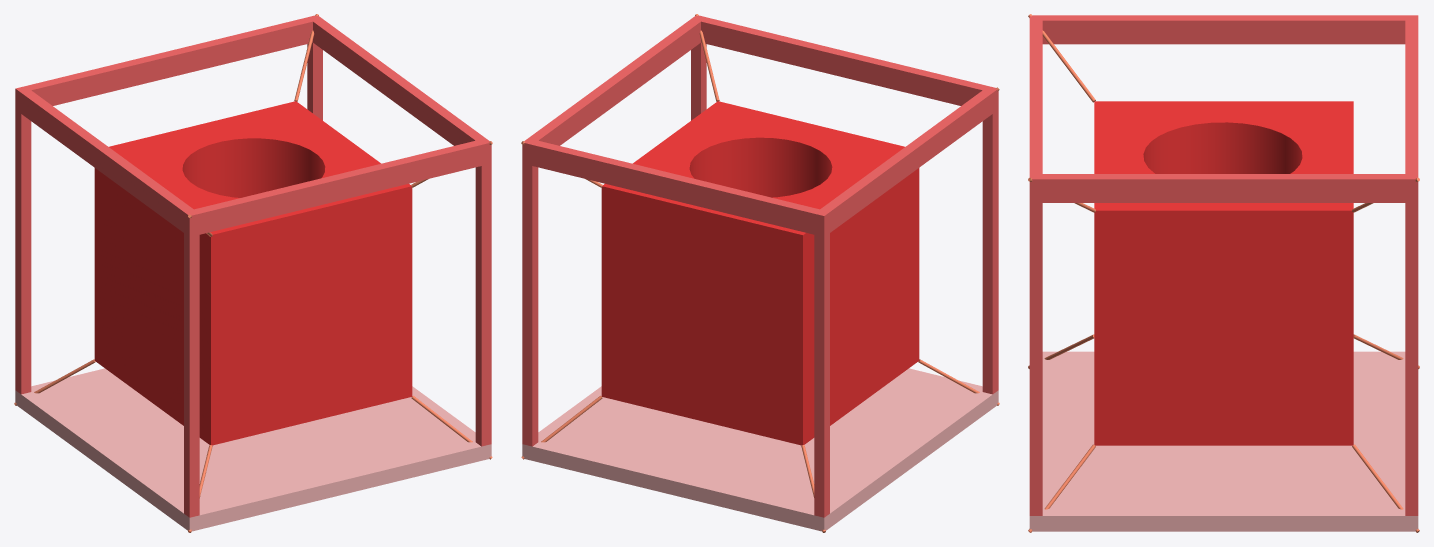
3 renders of one model, left to right at view 1: azimuth 30°, elevation 25°; view 2: azimuth 150°, elevation 25°; view 3: azimuth 270°, elevation 25°, orthographic. The views are drawn at different scales.
Visible parts, largest first — view 1: 物件_1, 物件_17, 物件_10, 物件_11, 物件_12, 物件_9, 物件_16, 物件_13, 物件_14, 物件_15; view 2: 物件_1, 物件_17, 物件_11, 物件_10, 物件_12, 物件_9, 物件_14, 物件_15, 物件_13, 物件_16; view 3: 物件_1, 物件_17, 物件_9, 物件_12, 物件_16, 物件_15, 物件_11, 物件_10.
Boxes of the visible parts, bbox=[...] form: 物件_1: bbox=[94, 101, 412, 445]; 物件_17: bbox=[15, 368, 491, 531]; 物件_10: bbox=[184, 138, 491, 236]; 物件_11: bbox=[15, 16, 320, 112]; 物件_12: bbox=[15, 89, 199, 236]; 物件_9: bbox=[308, 15, 491, 165]; 物件_16: bbox=[475, 138, 491, 446]; 物件_13: bbox=[15, 88, 31, 394]; 物件_14: bbox=[184, 210, 199, 517]; 物件_15: bbox=[307, 16, 322, 120]; 物件_1: bbox=[601, 101, 919, 445]; 物件_17: bbox=[522, 368, 998, 531]; 物件_11: bbox=[522, 138, 829, 236]; 物件_10: bbox=[691, 16, 998, 110]; 物件_12: bbox=[814, 86, 998, 236]; 物件_9: bbox=[522, 15, 705, 165]; 物件_14: bbox=[982, 86, 998, 394]; 物件_15: bbox=[522, 138, 538, 446]; 物件_13: bbox=[814, 210, 829, 517]; 物件_16: bbox=[691, 16, 706, 120]; 物件_1: bbox=[1094, 101, 1353, 445]; 物件_17: bbox=[1029, 351, 1418, 531]; 物件_9: bbox=[1029, 174, 1418, 202]; 物件_12: bbox=[1029, 15, 1417, 44]; 物件_16: bbox=[1029, 176, 1042, 515]; 物件_15: bbox=[1405, 175, 1418, 515]; 物件_11: bbox=[1405, 15, 1418, 202]; 物件_10: bbox=[1029, 15, 1042, 202].
Size of the model in its own units: 48.39 by 48.38 by 48.39.
